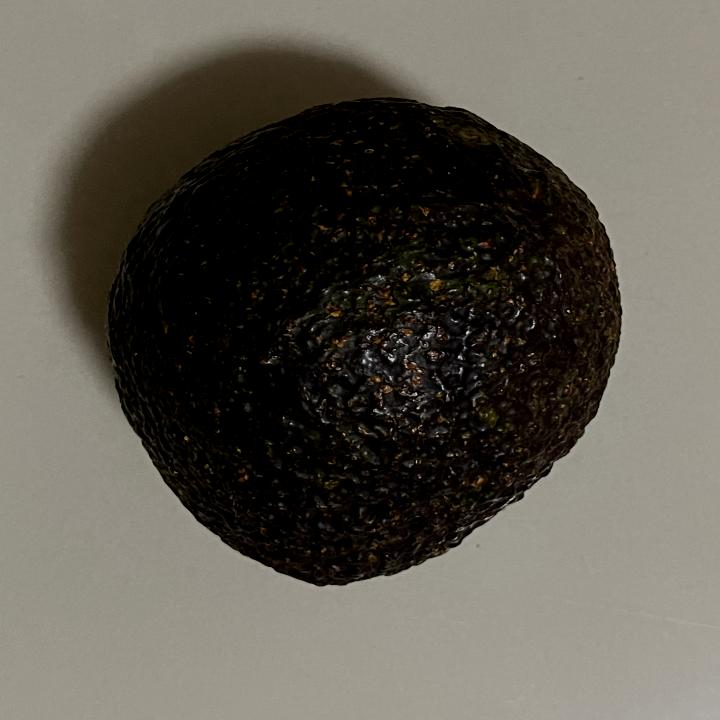Level1: (90, 82, 640, 606)
